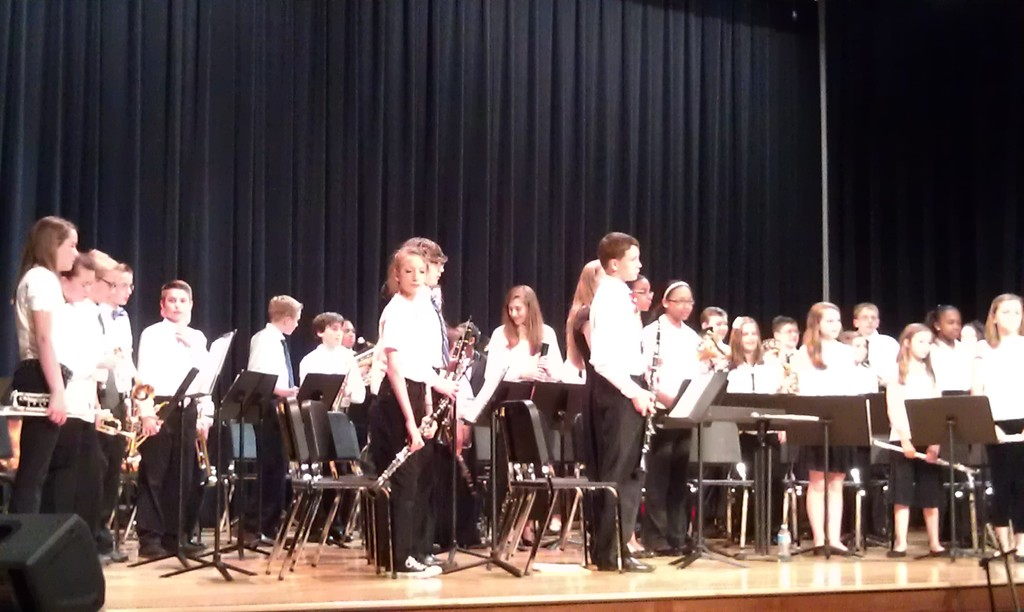Person: (0, 231, 1024, 578)
